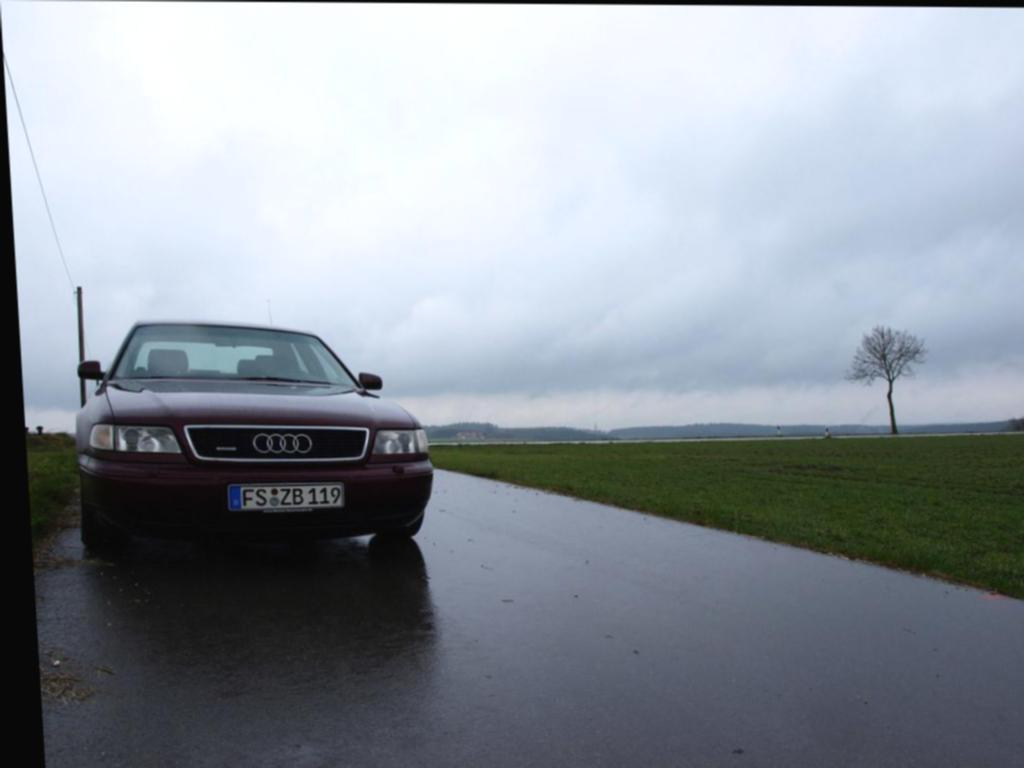License_Plate: (224, 480, 345, 512)
